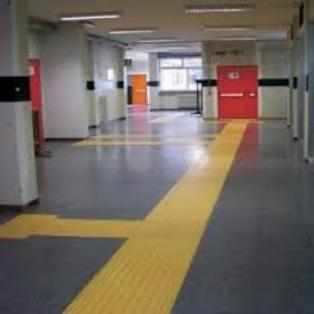Podoctatil: (3, 76, 269, 314)
